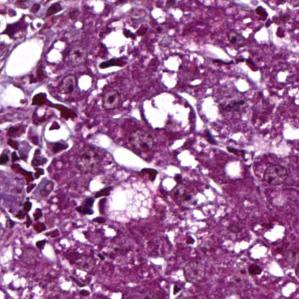ballooning: (103, 174, 158, 221), (142, 92, 192, 134)
